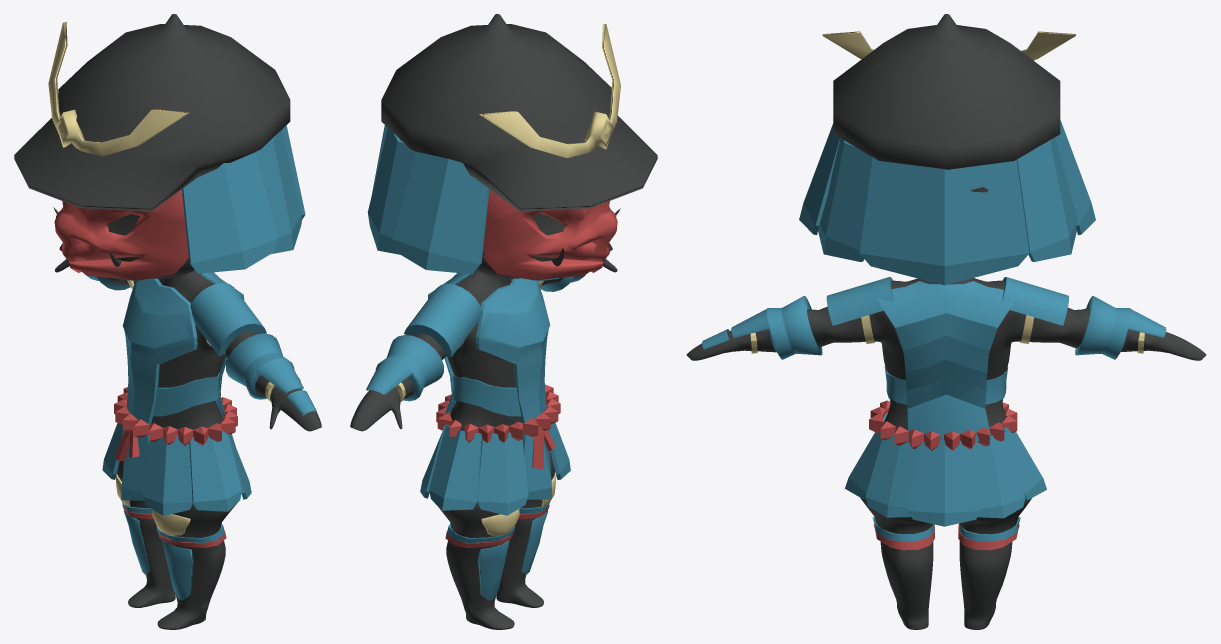
Rendered from Samuraishit.fbx.
3 views of the same model, side by side, from view 1: azimuth 30°, elevation 25°; view 2: azimuth 150°, elevation 25°; view 3: azimuth 270°, elevation 25° (orthographic). The views are drawn at different scales.
Visible parts, largest first — view 1: polySurface29; view 2: polySurface29; view 3: polySurface29.
Part boxes in pixels (box(x1,y1,x2,y2)): polySurface29: box(14, 14, 321, 629); polySurface29: box(350, 14, 657, 629); polySurface29: box(686, 14, 1206, 629).
Size of the model in its own units: 4.69 by 10.39 by 8.05.
